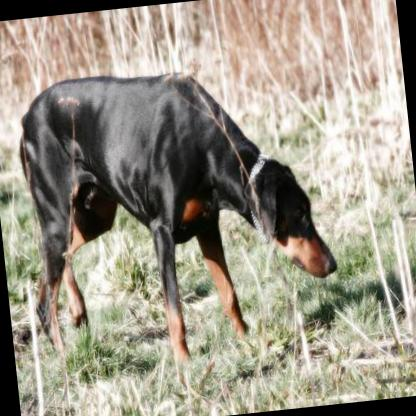Doberman: (6, 50, 346, 376)
